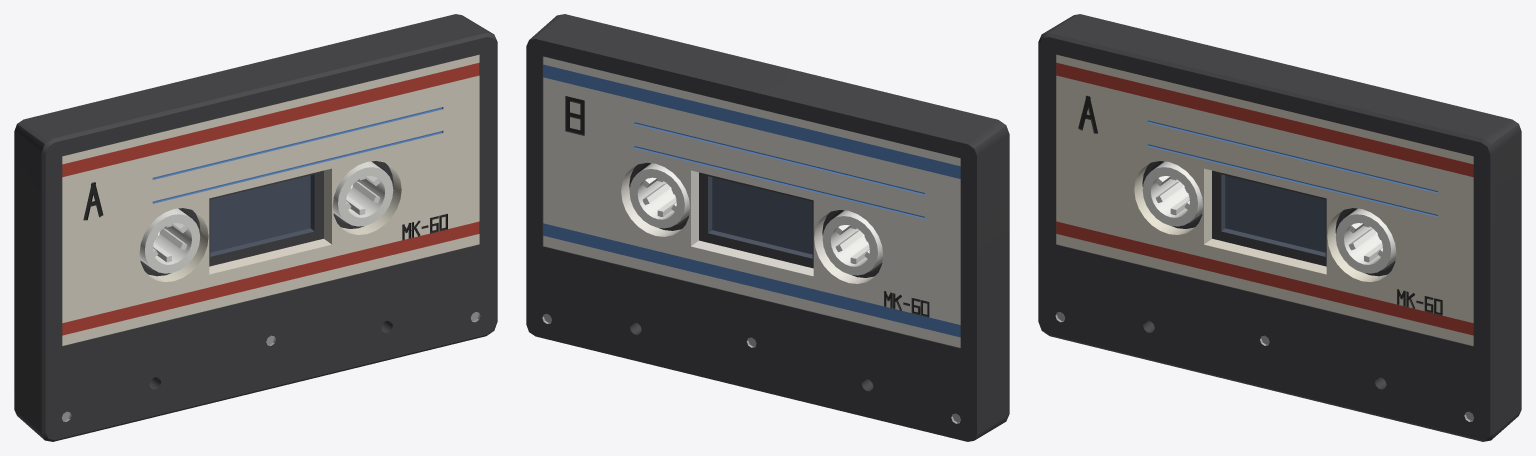
Rendered from tape_hymns.glb.
3 views of the same model, side by side, from view 1: azimuth 30°, elevation 25°; view 2: azimuth 150°, elevation 25°; view 3: azimuth 330°, elevation 25° (orthographic).
Parts seen in each view (by area): view 1: shell, label_a, hub_l, hub_r; view 2: shell, label_b, hub_l, hub_r; view 3: shell, label_a, hub_r, hub_l.
Boxes of the visible parts, x1=… form: shell: x1=14, y1=14, x2=497, y2=441; label_a: x1=62, y1=54, x2=479, y2=345; hub_l: x1=139, y1=208, x2=200, y2=273; hub_r: x1=332, y1=161, x2=393, y2=226; shell: x1=526, y1=14, x2=1009, y2=441; label_b: x1=543, y1=56, x2=960, y2=347; hub_l: x1=822, y1=210, x2=883, y2=275; hub_r: x1=629, y1=163, x2=689, y2=228; shell: x1=1038, y1=14, x2=1521, y2=441; label_a: x1=1056, y1=54, x2=1473, y2=345; hub_r: x1=1335, y1=208, x2=1396, y2=273; hub_l: x1=1142, y1=161, x2=1203, y2=226.
Bounding box in the file's own units: 0.1004 × 0.0638 × 0.012.
